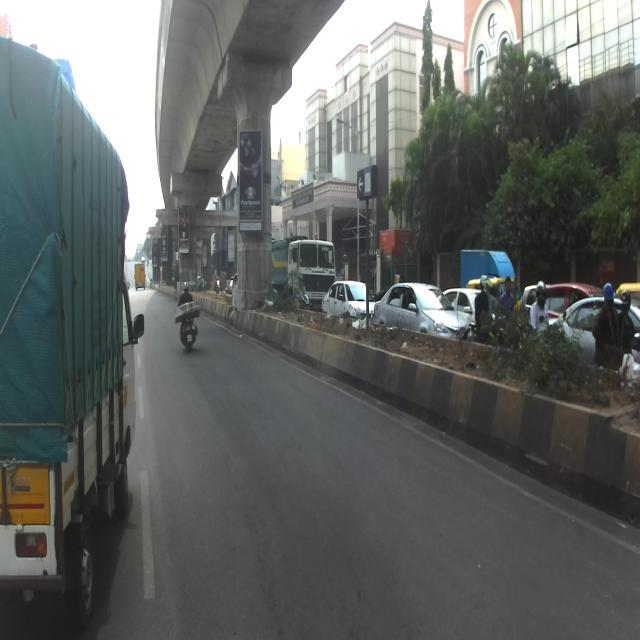truck ahead at: (0, 36, 147, 631)
